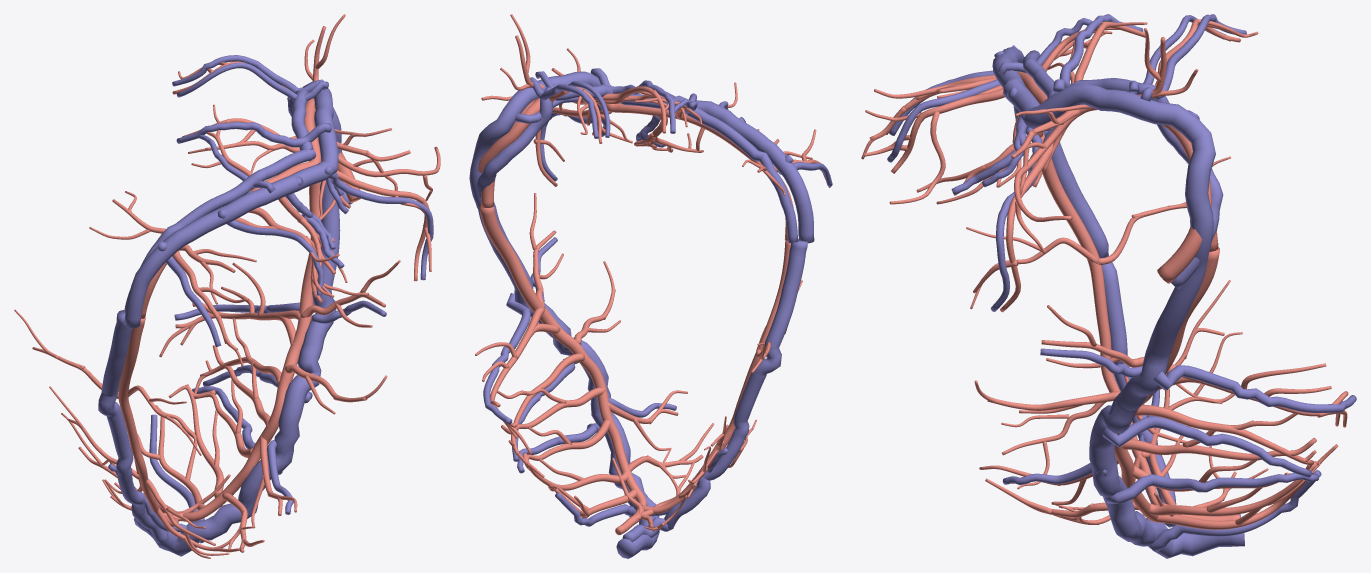
The model's file is vessels_66.glb.
The picture shows the model from 3 angles, left to right: view 1: azimuth 30°, elevation 25°; view 2: azimuth 150°, elevation 25°; view 3: azimuth 270°, elevation 25°; orthographic projection. The views are drawn at different scales.
Visible parts, largest first — view 1: Renderer Node; view 2: Renderer Node; view 3: Renderer Node.
Boxes of the visible parts, x1=… form: Renderer Node: x1=14, y1=14, x2=440, y2=558; Renderer Node: x1=469, y1=14, x2=832, y2=558; Renderer Node: x1=861, y1=14, x2=1356, y2=558.
Bounding box in the file's own units: 90.72 × 124 × 89.55.
